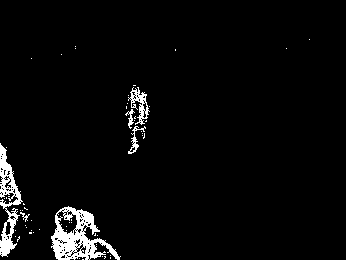person: (123, 83, 152, 158), (50, 205, 88, 260)
